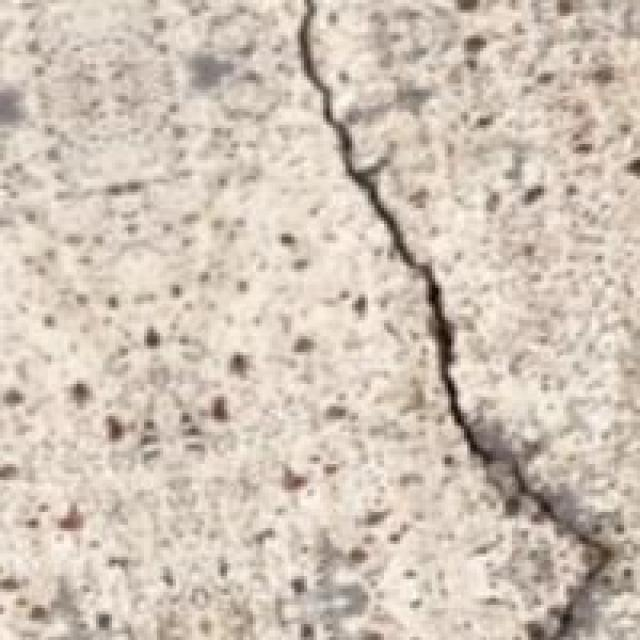Crack: (269, 0, 621, 637)
